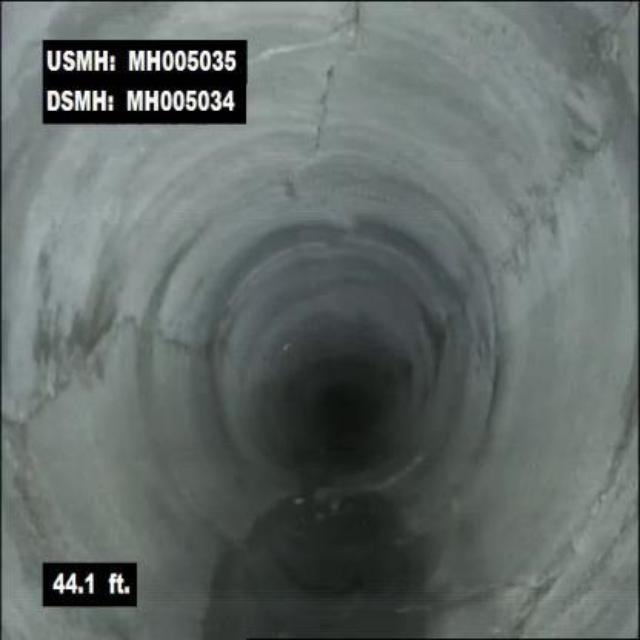Crack: (8, 305, 138, 445), (517, 455, 623, 622), (511, 117, 620, 258), (312, 6, 368, 151), (408, 580, 509, 618)
